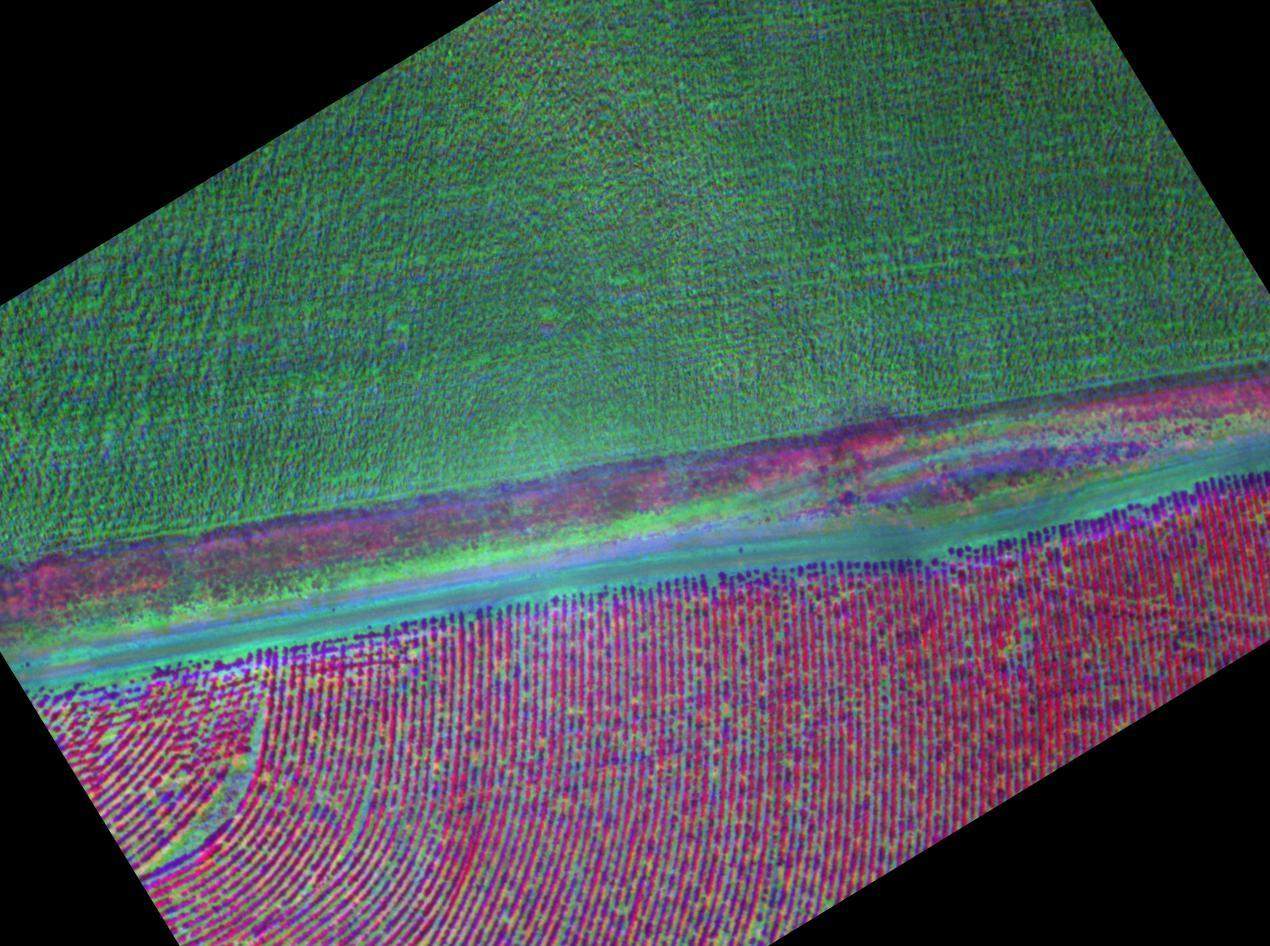dc: (138, 710, 265, 862), (323, 783, 409, 883), (513, 623, 601, 705), (358, 675, 413, 726)
